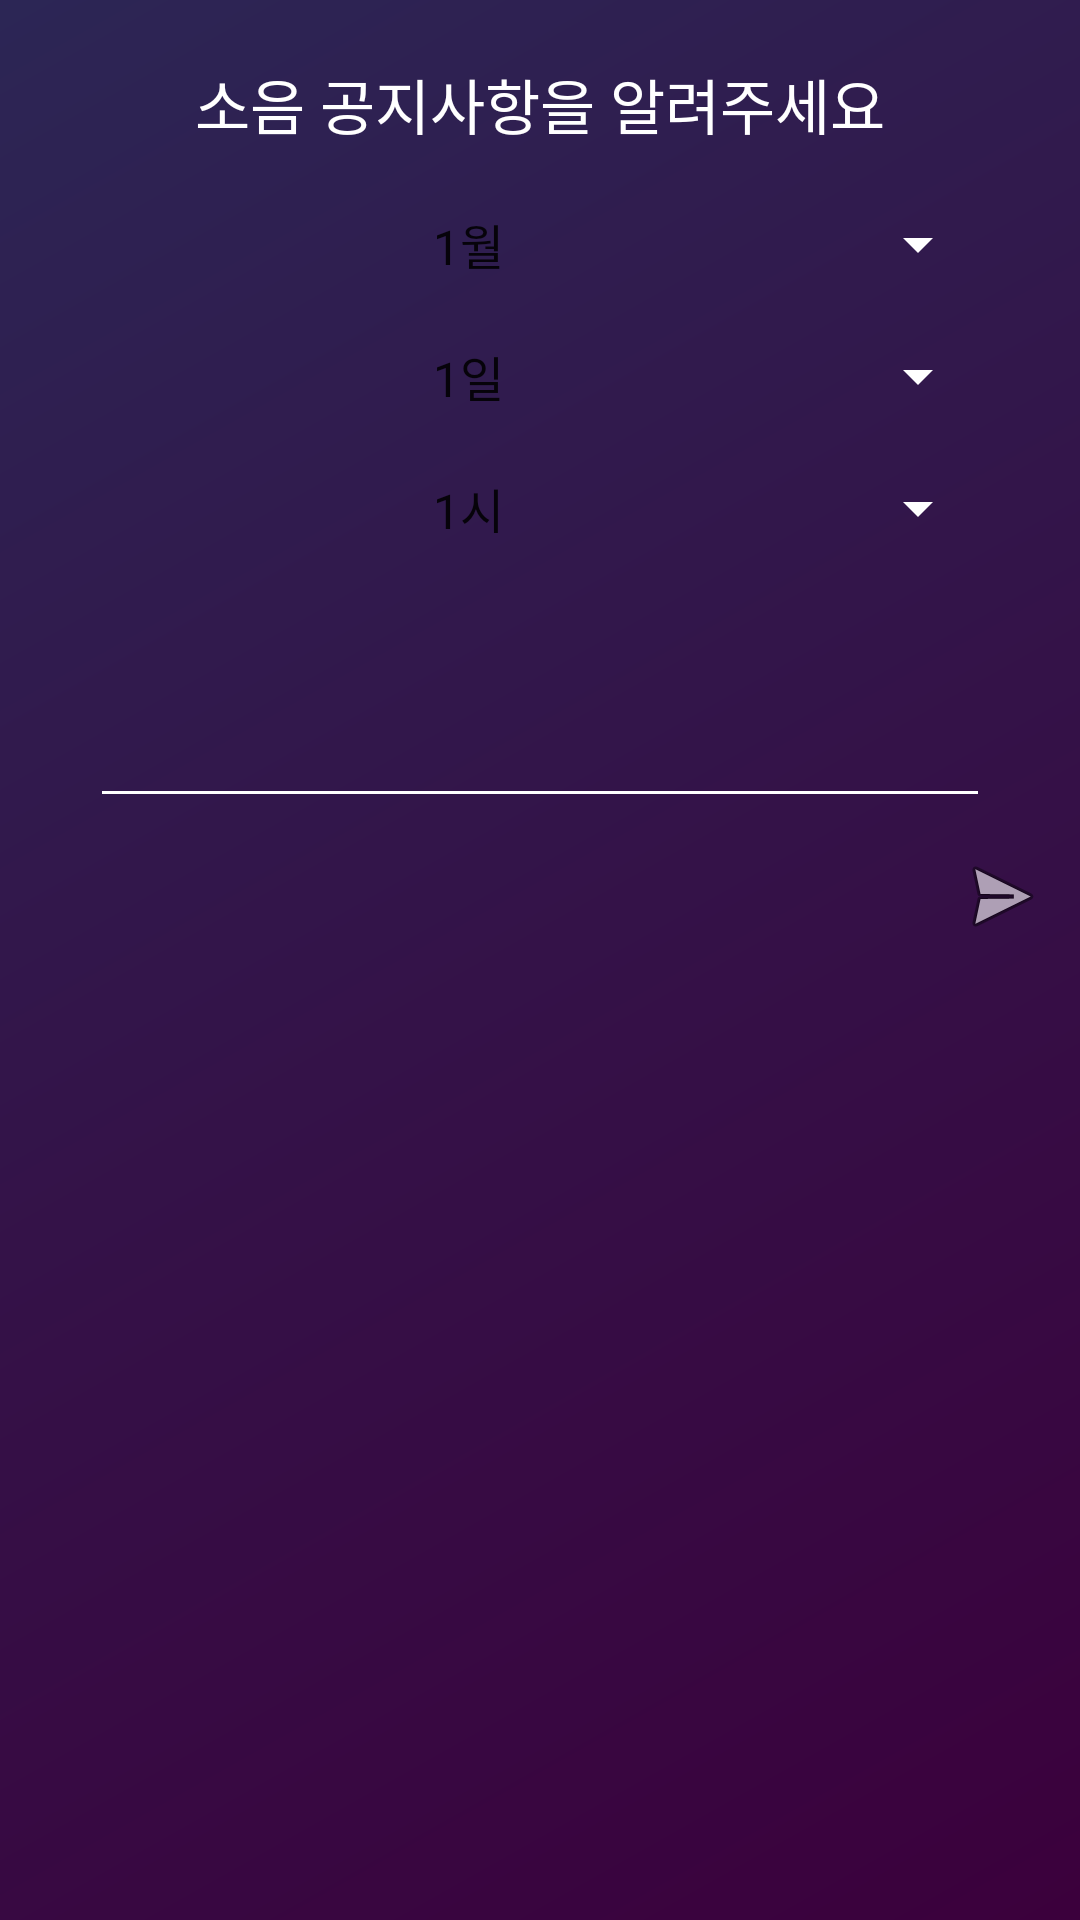

Screen size 1080 x 1920. Icon name, then its box in pixels as (x1, y1, x2, y2):
send: (973, 867, 1033, 926)
